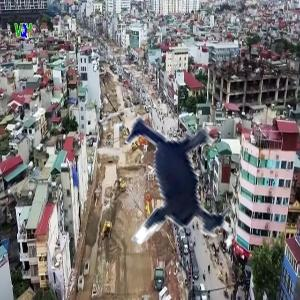drone: (69, 85, 271, 287)
